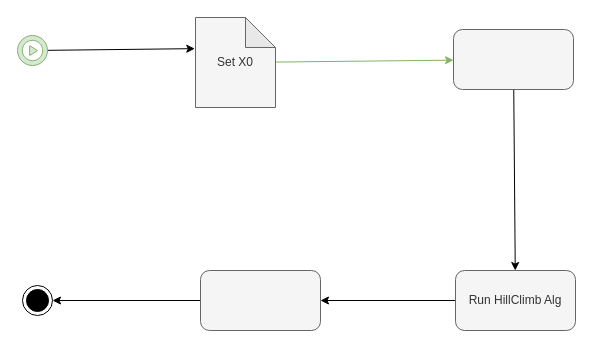
The diagram is 593 pixels wide and 348 high, and some of its shapes have lost their labels. The centre of each missing label's shape, as x and y in pixels:
define Fx: [513,59]
Print Result: [260,300]
